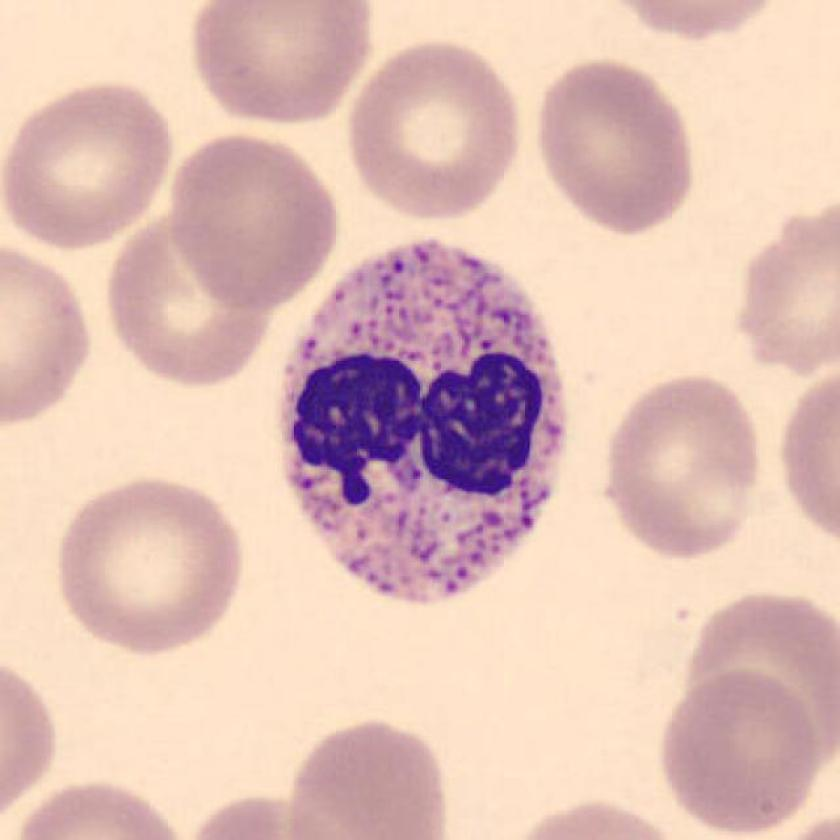neutrophil: (281, 241, 568, 602)
